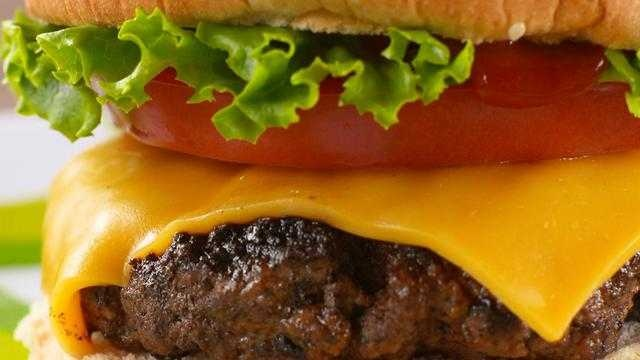hamburger: (18, 1, 636, 357)
